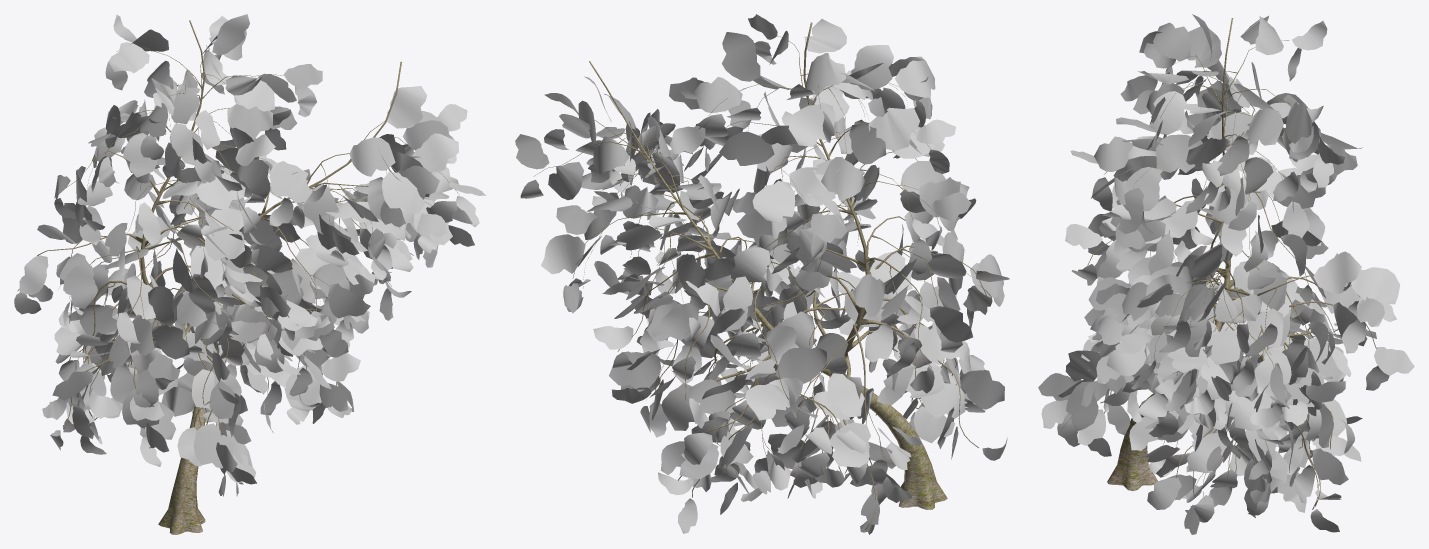
The model's file is Tree.fbx.
3 renders of one model, left to right at view 1: azimuth 30°, elevation 25°; view 2: azimuth 150°, elevation 25°; view 3: azimuth 270°, elevation 25°, orthographic. The views are drawn at different scales.
Visible parts, largest first — view 1: branch08_1, mossybark01_0; view 2: branch08_1, mossybark01_0; view 3: branch08_1, mossybark01_0.
Boxes of the visible parts, x1,y1,x2,y2 form: branch08_1: (14, 14, 486, 496); mossybark01_0: (17, 20, 459, 534); branch08_1: (515, 14, 1009, 534); mossybark01_0: (533, 22, 991, 529); branch08_1: (1038, 14, 1414, 534); mossybark01_0: (1086, 18, 1376, 509).
Bounding box in the file's own units: 697 × 721 × 503.
1 material, 1 textured.
